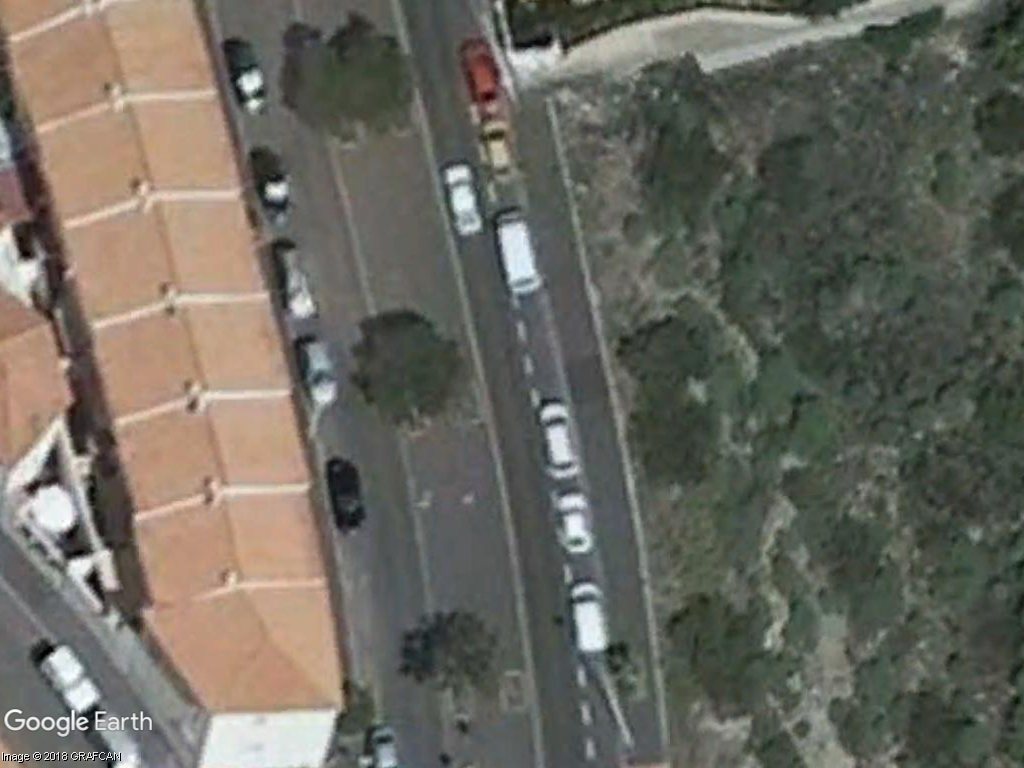car: (530, 393, 584, 485), (435, 156, 486, 240), (550, 489, 601, 561)
other: (491, 204, 545, 301)
van: (566, 574, 615, 662)
